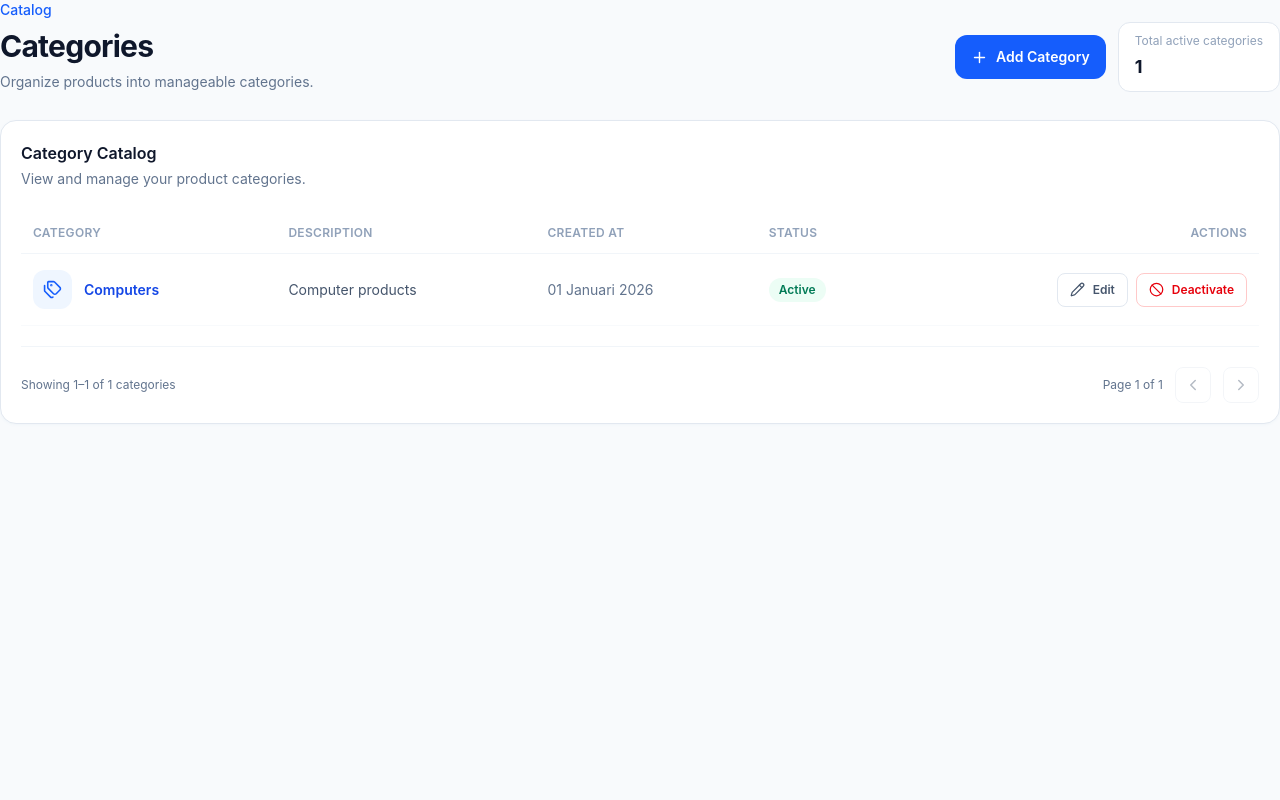
Test case: CategoriesPage › edits an existing category
The image size is (1280, 800).
Expected: the link "Computers" is shown, [84,280,159,300]
Click the button with aria-label "Edit Computers" at [1092, 290], box [1057,272,1128,306]
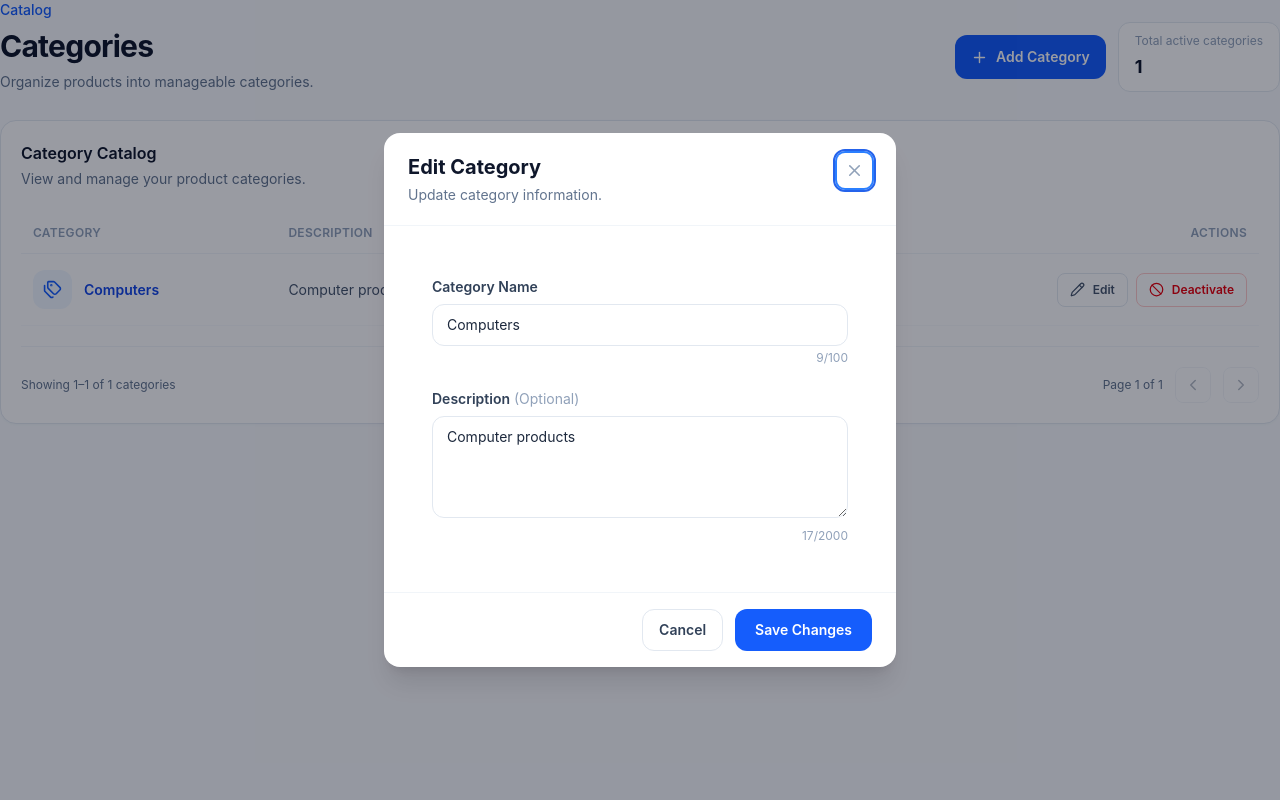
Replace the text in the field labelled "Category Name" with "Office Equipment" at [640, 325], box [432,304,848,346]
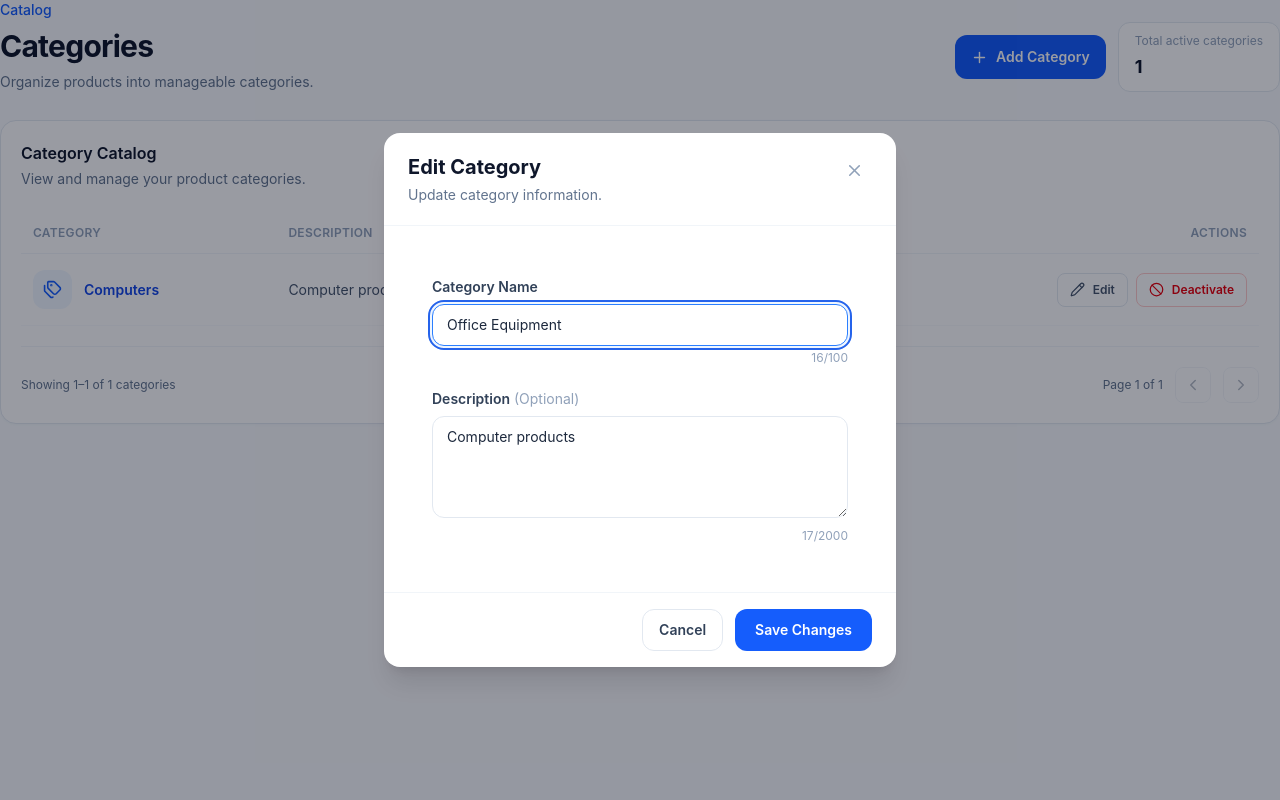
Click the button "Save Changes" at [804, 630], box [735,609,872,651]
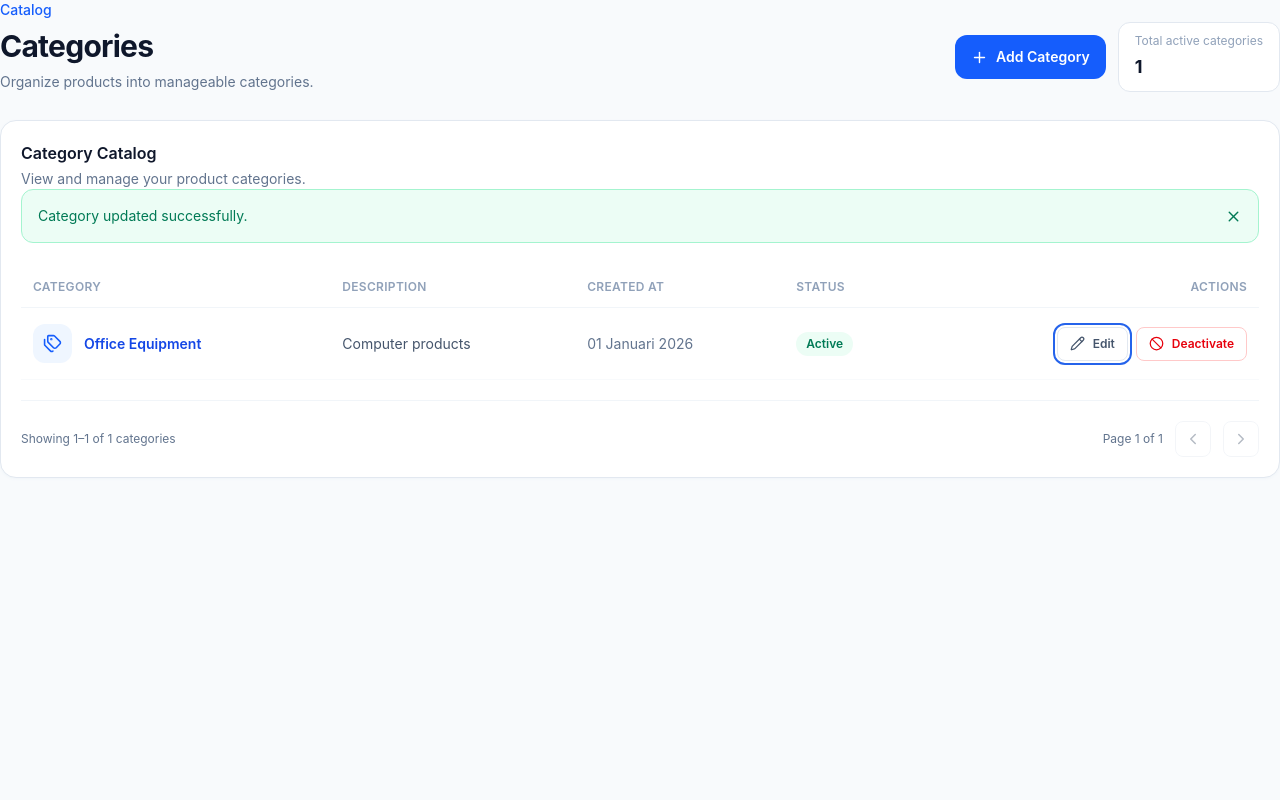
Expected: the link "Office Equipment" is shown, [84,334,201,354]
